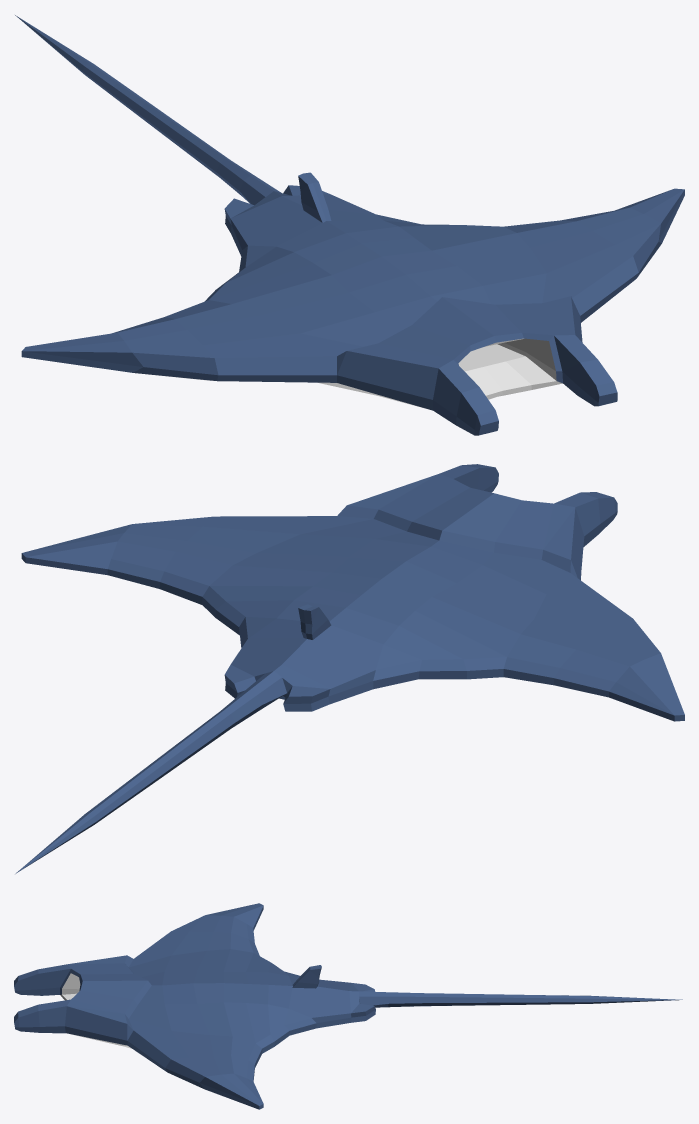
File: manta.glb
The picture shows the model from 3 angles, top to bottom: view 1: azimuth 30°, elevation 25°; view 2: azimuth 150°, elevation 25°; view 3: azimuth 270°, elevation 25°; orthographic projection. The views are drawn at different scales.
Parts seen in each view (by area): view 1: MantaRay; view 2: MantaRay; view 3: MantaRay.
Part boxes in pixels (x1,y1,x2,y2): MantaRay: (15,15,684,435); MantaRay: (15,464,684,873); MantaRay: (14,903,682,1109).
Size of the model in its own units: 8.39 by 1.34 by 11.73.
Materials: 1 (1 with a texture image).
